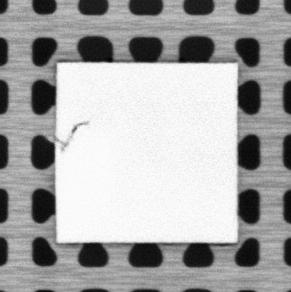DIE_INK: (55, 118, 89, 152)
